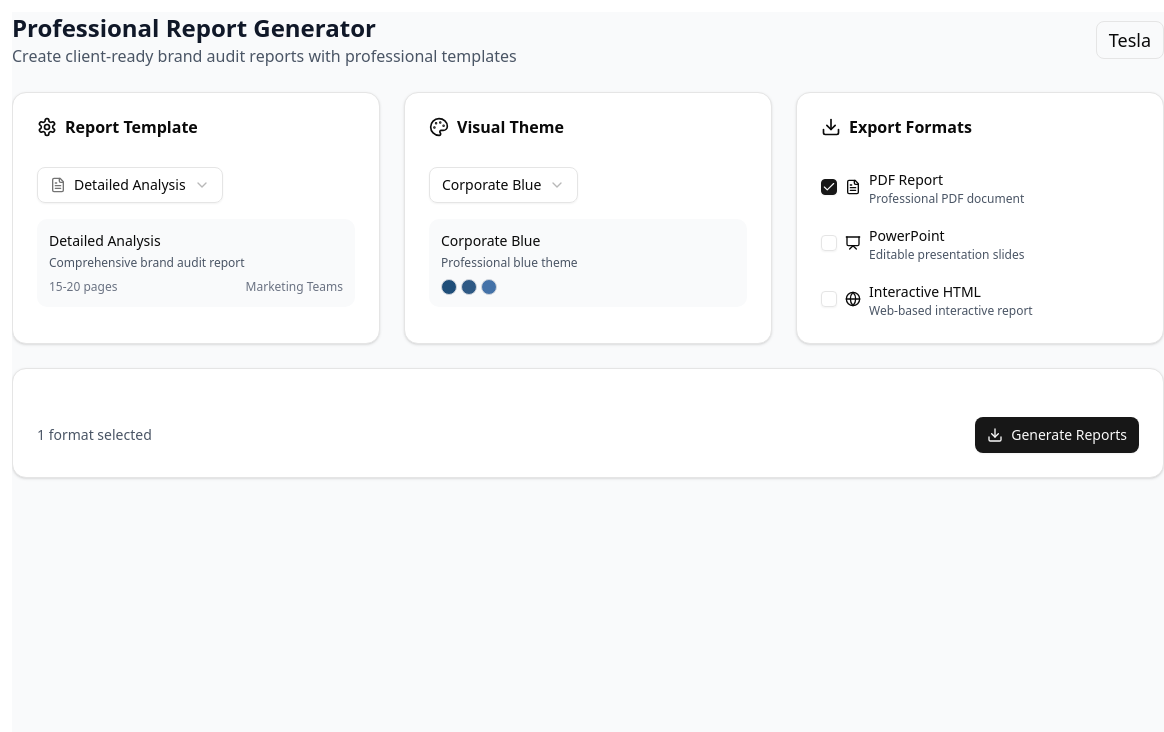
Test case: ReportGenerator › handles successful report generation
// Generate reports
Click the button "Generate Reports".
click(1057, 435)  # box top-left (975, 417), bottom-right (1139, 453)
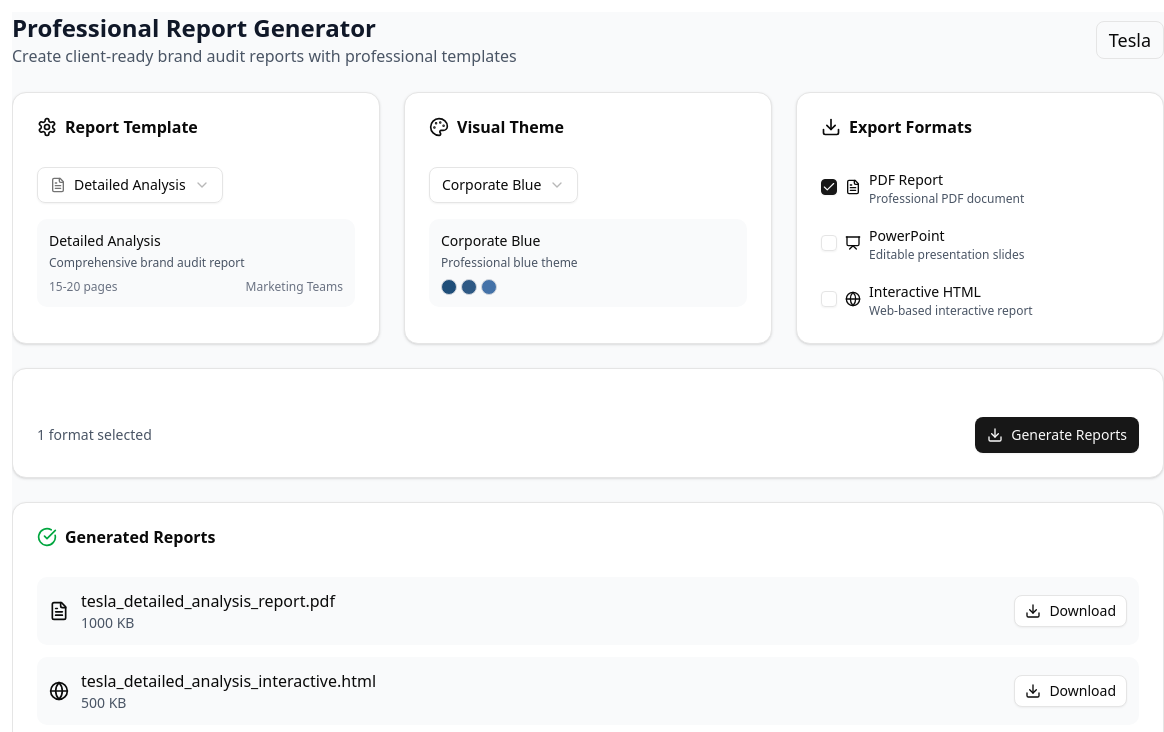
Check: the text "Generated Reports" is shown, box top-left (37, 526), bottom-right (216, 548)
Check: the text "tesla_detailed_analysis_report.pdf" is shown, box top-left (81, 589), bottom-right (335, 613)
Check: the text "tesla_detailed_analysis_interactive.html" is shown, box top-left (81, 669), bottom-right (376, 693)
